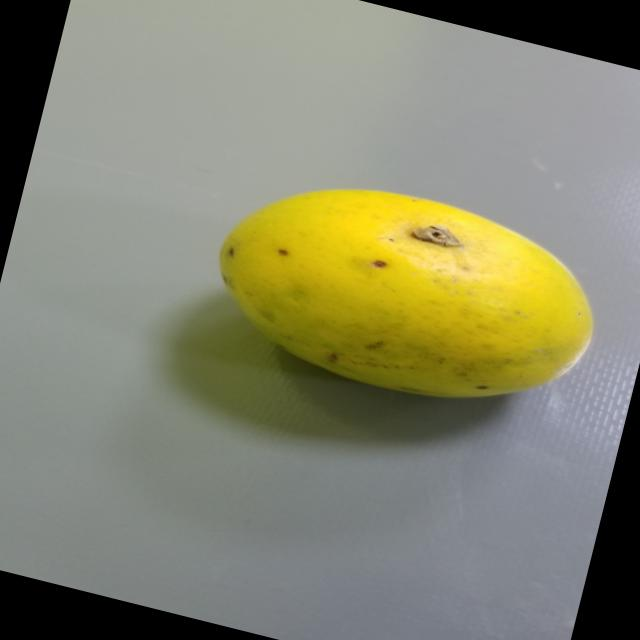Ripe orange: (188, 152, 633, 450)
